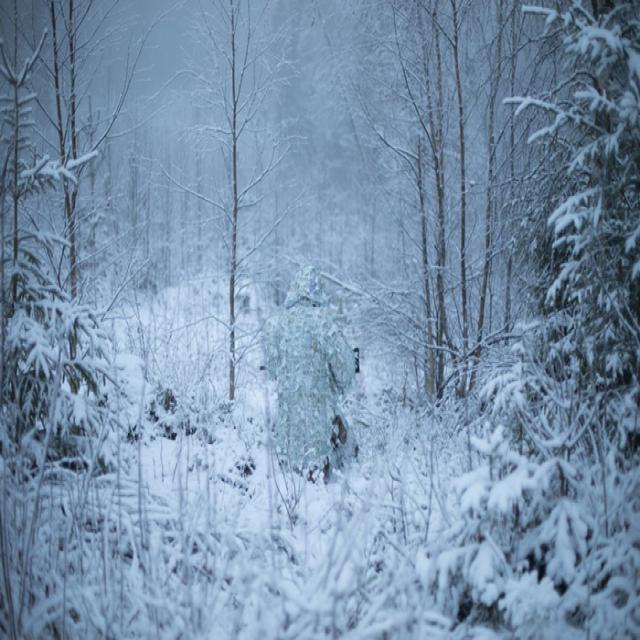Human: (256, 264, 363, 489)
